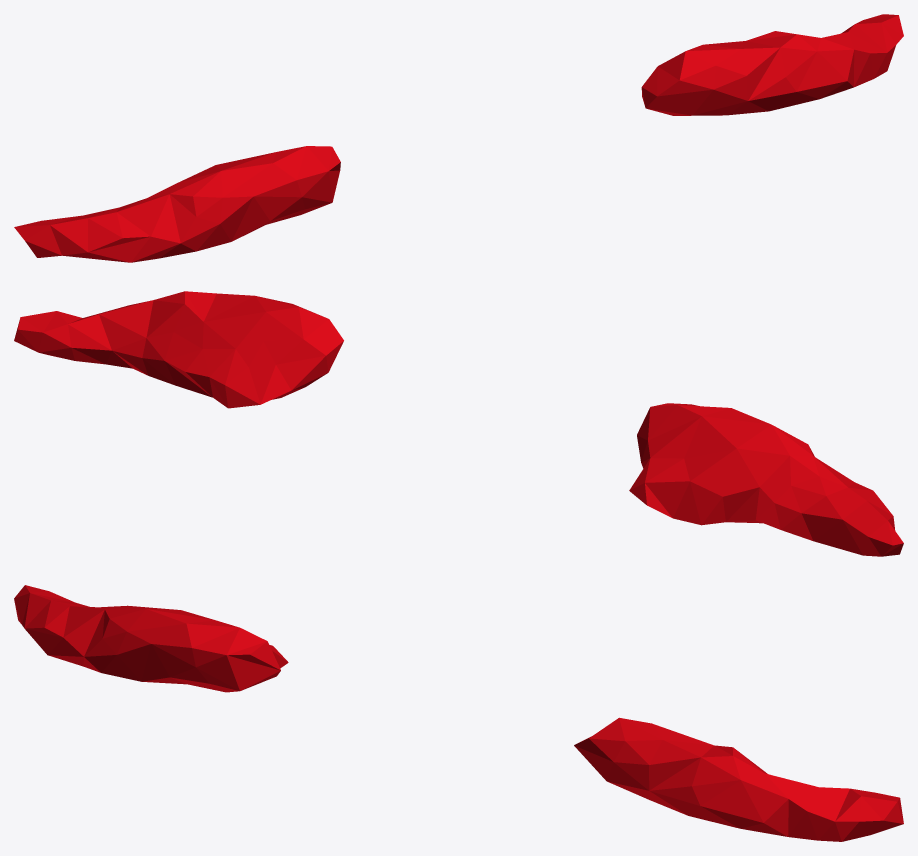
File: 216-Tu-olfactory tubercle-('1.0000', '0.0000', '0.0745').obj
The picture shows the model from 3 angles, top to bottom: view 1: azimuth 30°, elevation 25°; view 2: azimuth 150°, elevation 25°; view 3: azimuth 330°, elevation 25°; orthographic projection.
Size of the model in its own units: 119 by 10.93 by 14.66.
